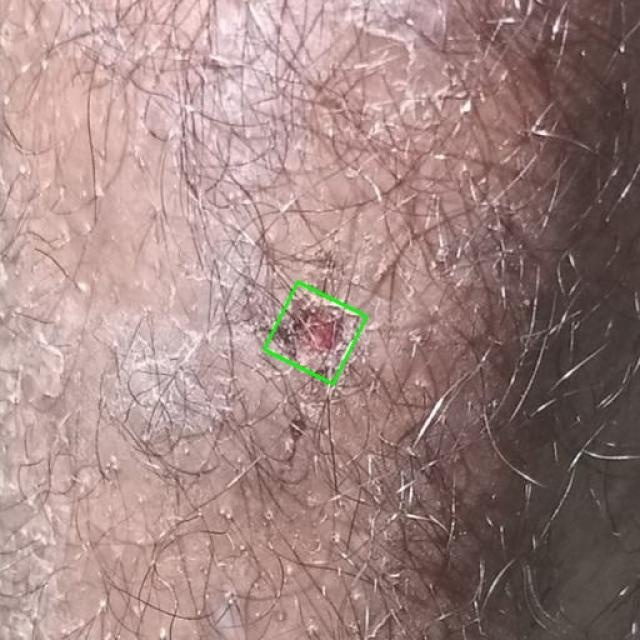Eczema: (264, 282, 367, 384)
